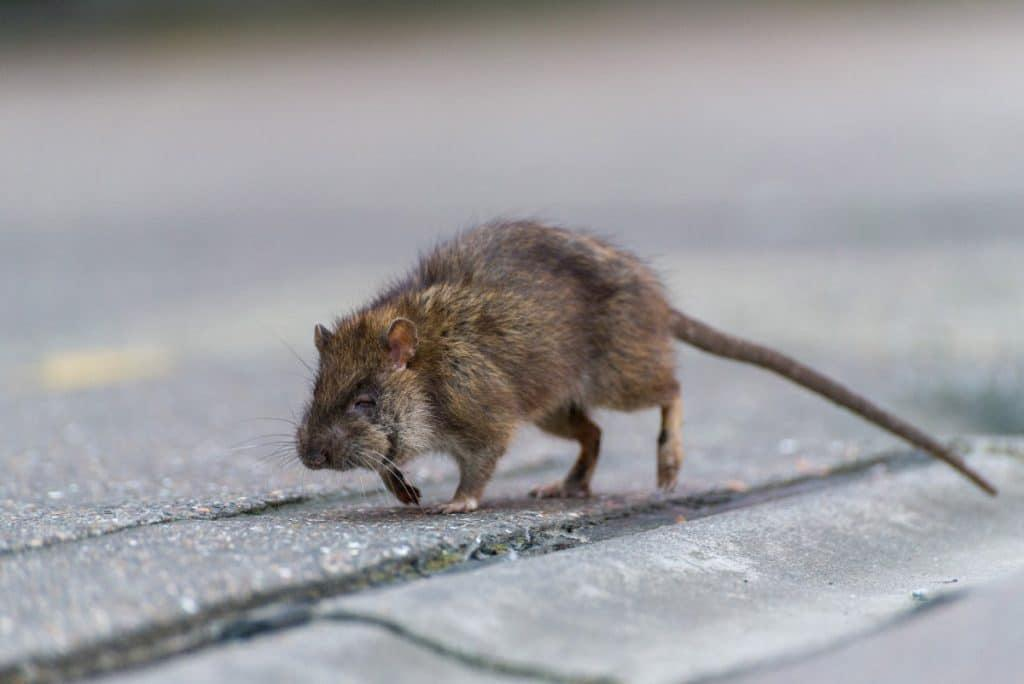rat: (296, 222, 999, 514)
